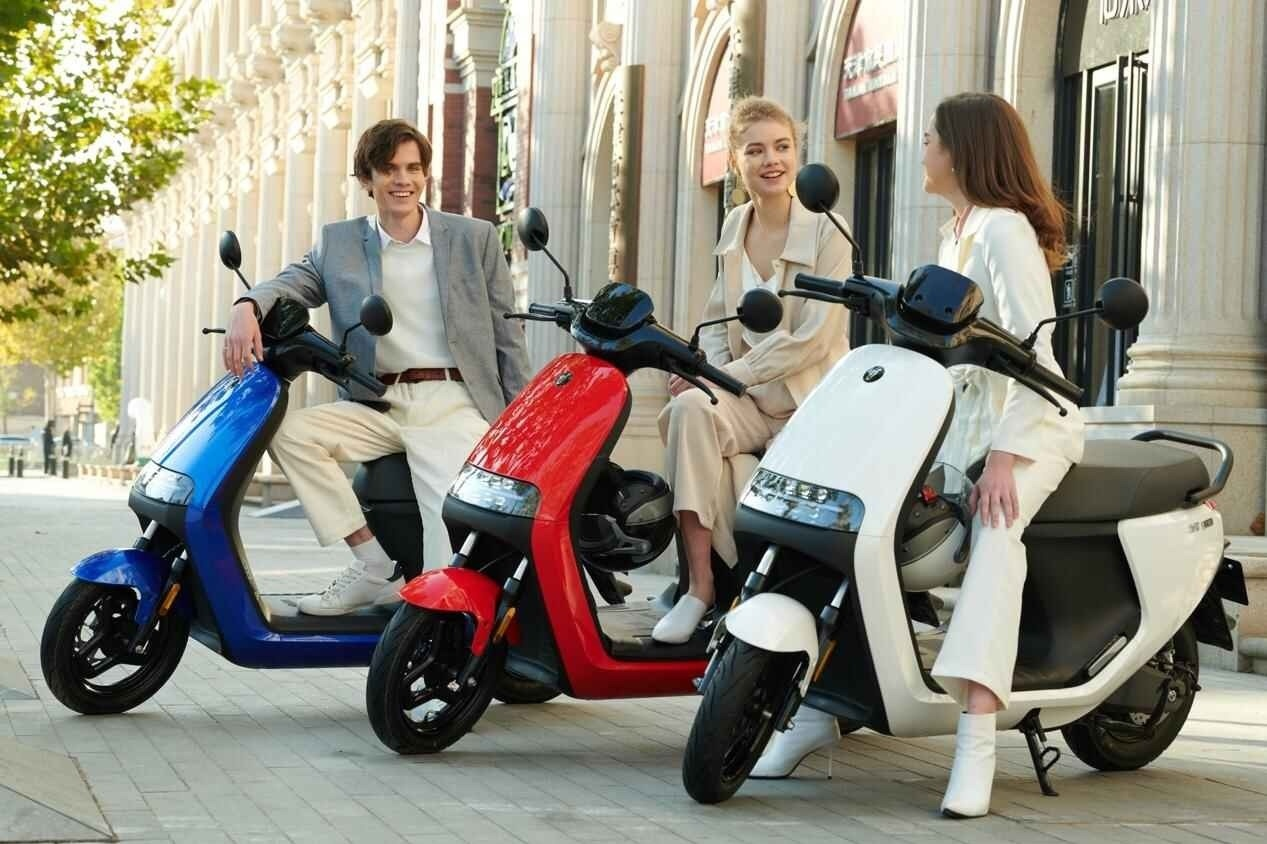non-vehicle: (680, 270, 1232, 808), (365, 249, 688, 759), (37, 272, 364, 715)
